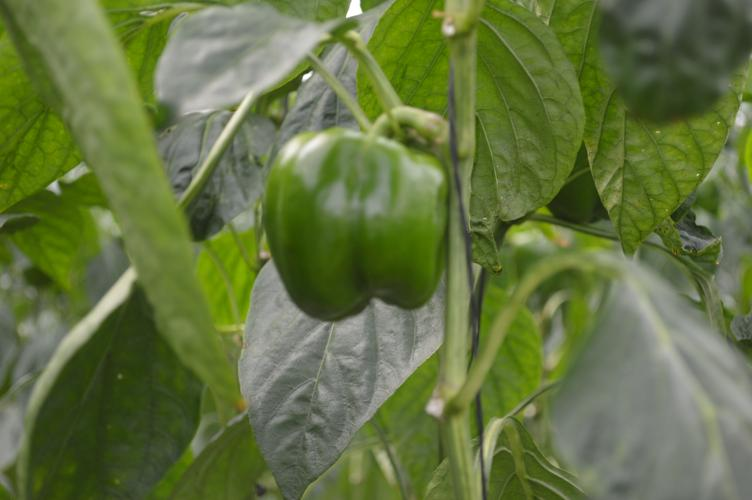BellPepper: (270, 130, 451, 325)
